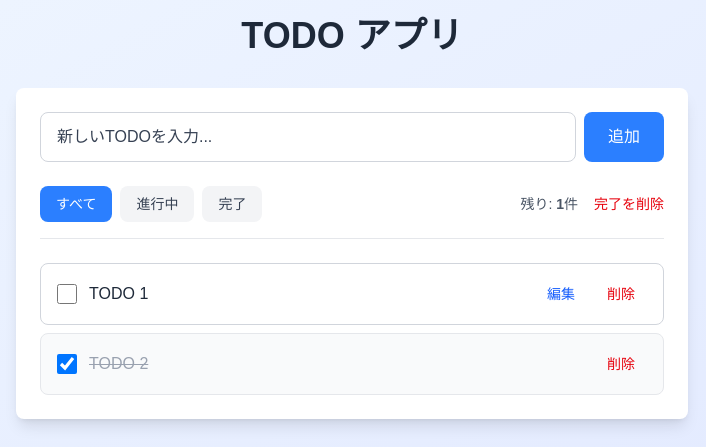
TodoApp › フィルター: 進行中
The image size is (706, 447).
Click the button "進行中".
click(158, 204)  # box [120, 186, 194, 222]
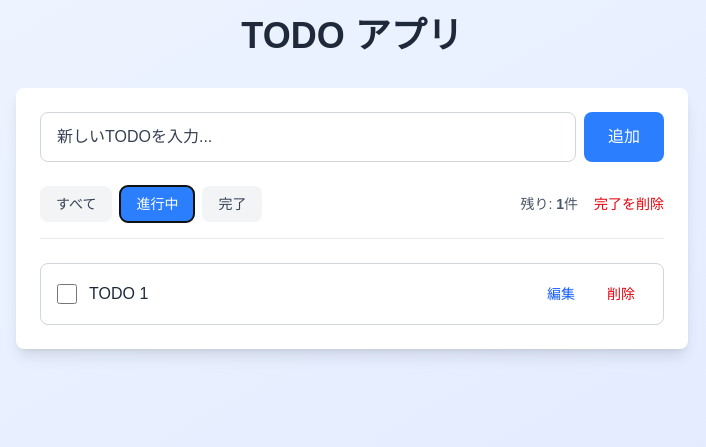
expect the text "TODO 1" is shown: met, box [89, 285, 148, 302]
expect the text "TODO 2" is gone: met
